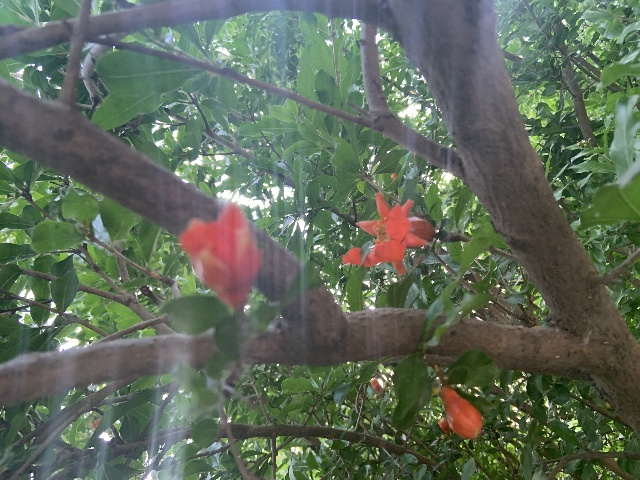bud: (442, 386, 482, 438), (370, 378, 384, 394), (438, 417, 450, 434), (390, 173, 397, 180)
flower: (179, 202, 263, 310), (341, 192, 434, 275)
